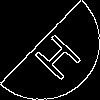H: (25, 25, 84, 84)
